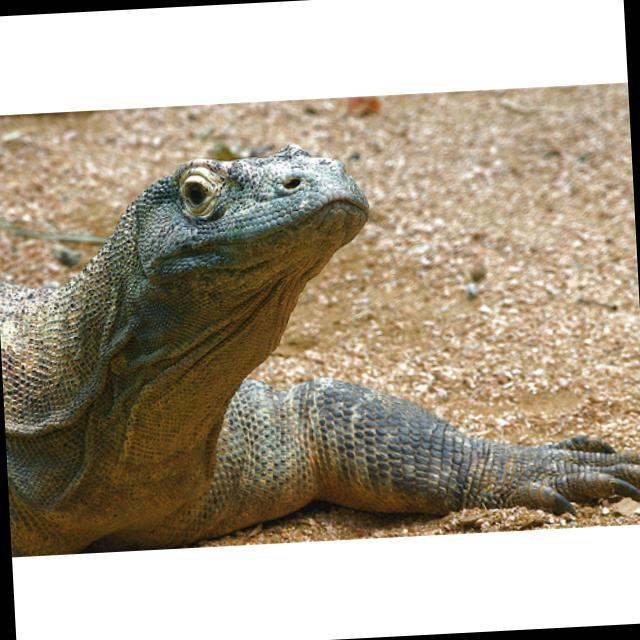KomodoDragon: (0, 123, 640, 554)
